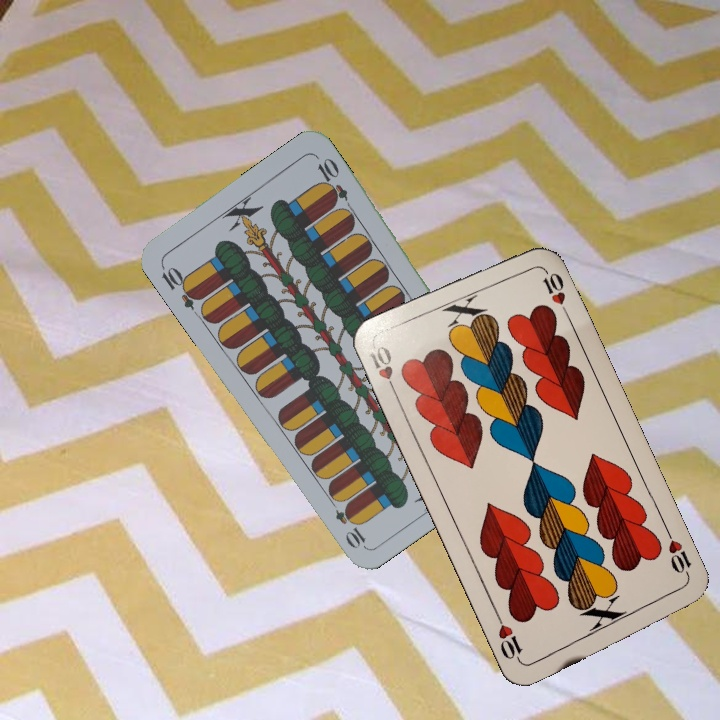E10: (157, 260, 204, 312)
H10: (364, 342, 401, 399), (662, 527, 694, 584)
